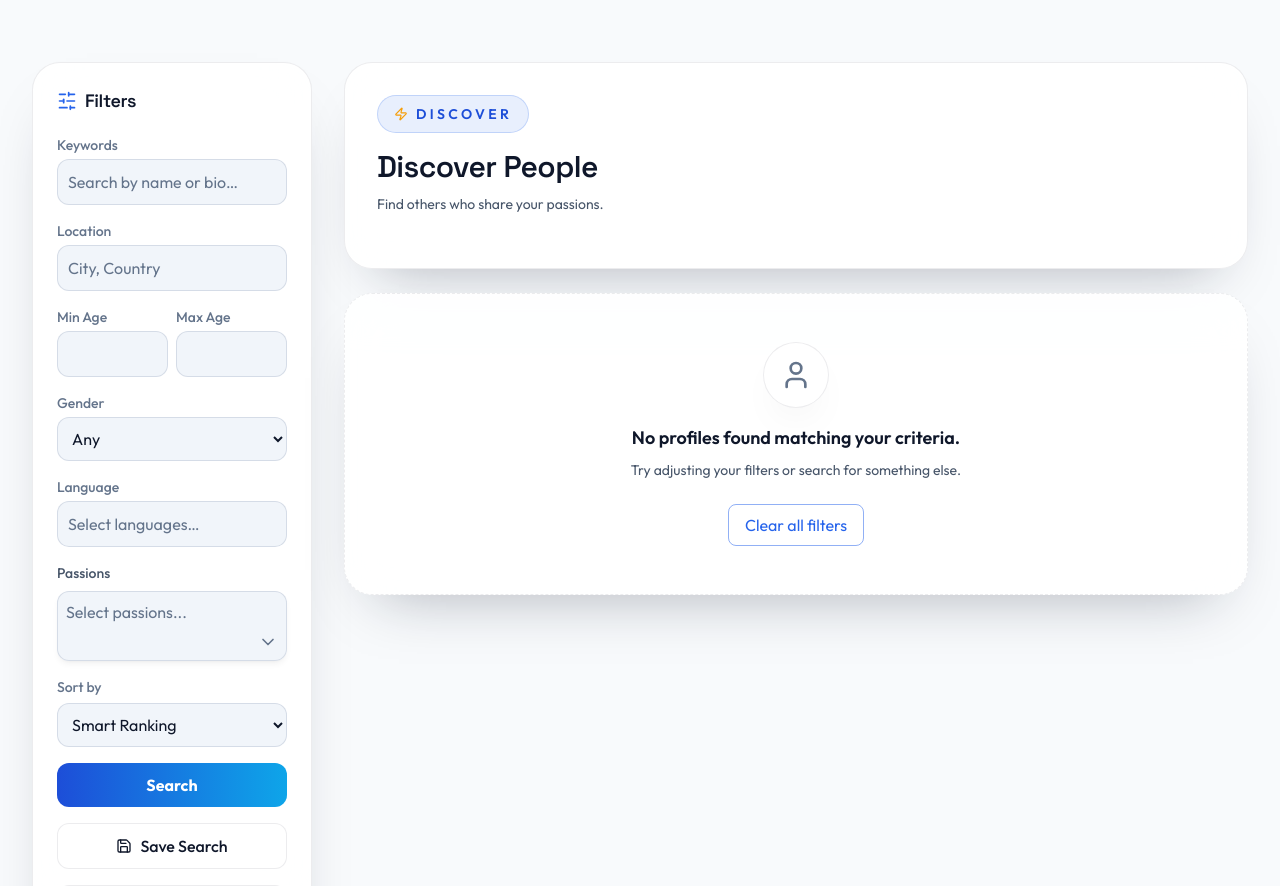
Test case: Search Page Error Handling and Edge Cases › clears all filters
The width and height of the screenshot is (1280, 886).
Note: Set some filters
Type "Test" into the field with placeholder "Search by name or bio…" at point(172, 182), box [57,159,287,205]
(page scrolled)
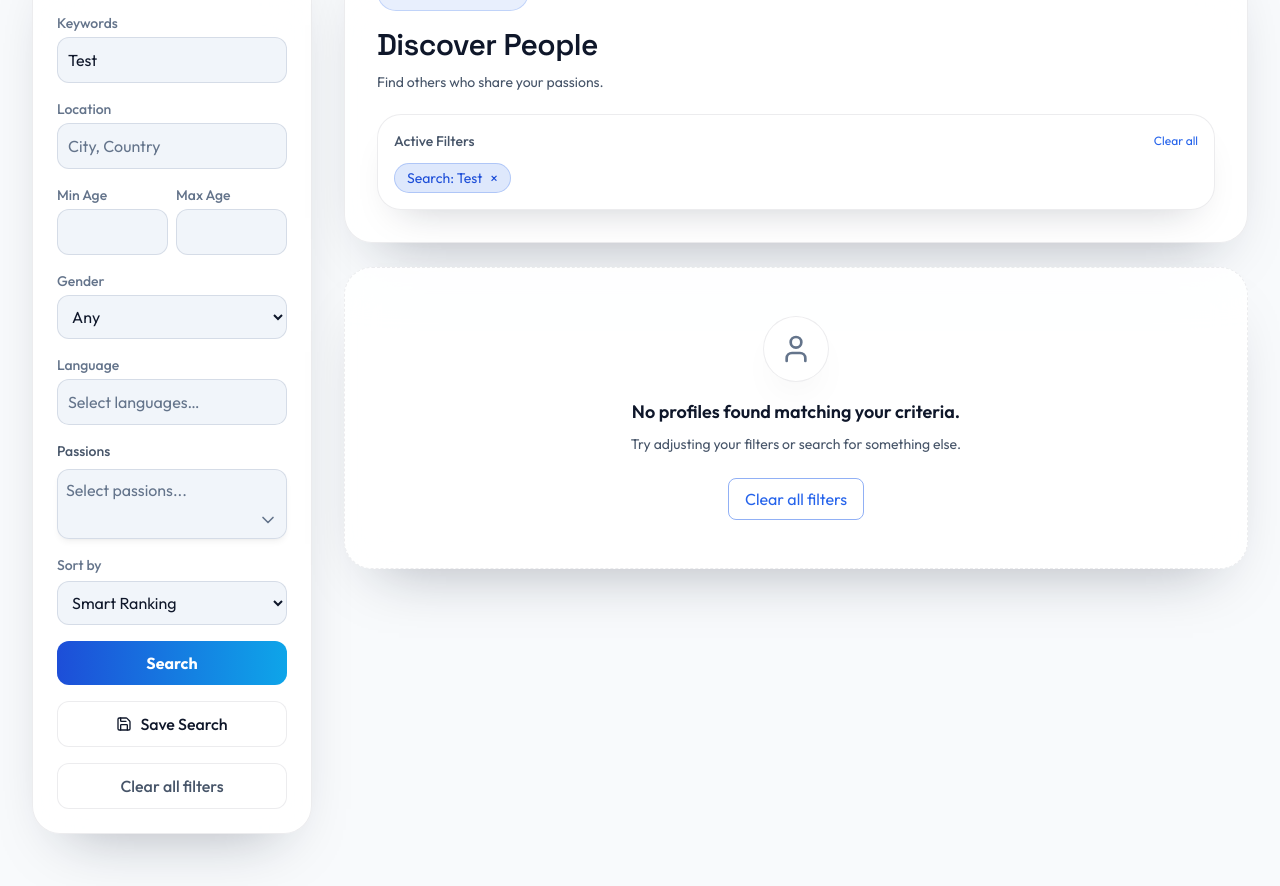
Check: the text "No profiles found matching your criteria." is shown, box [632,398,960,426]
Click the button "Clear all filters" below "Sort by" at point(172, 786), box [57,763,287,809]
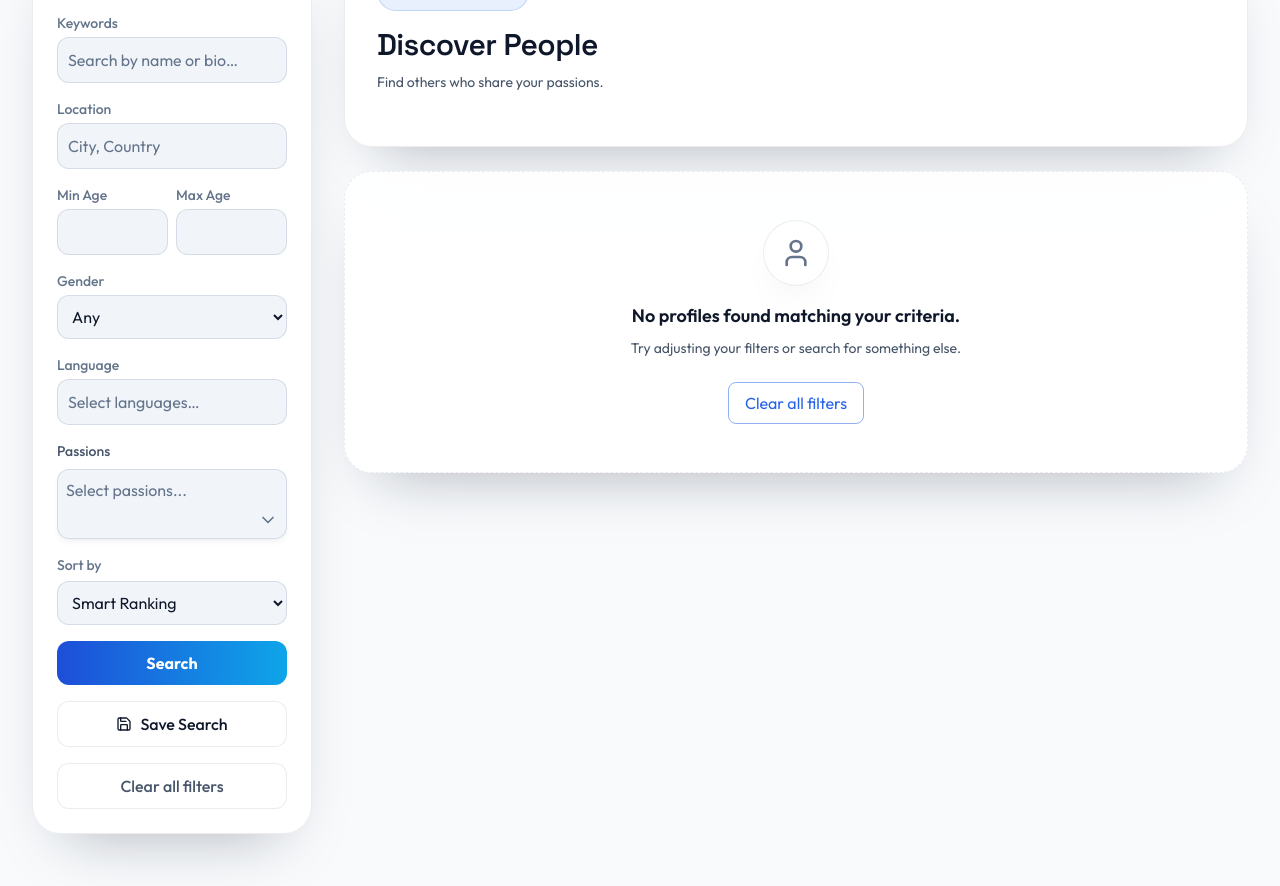
Check: the field with placeholder "Search by name or bio…" is empty, box [57,37,287,83]
